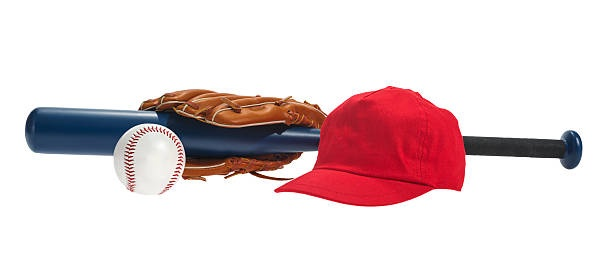bita: (24, 98, 583, 171)
